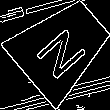N_NE: (31, 16, 93, 79)
